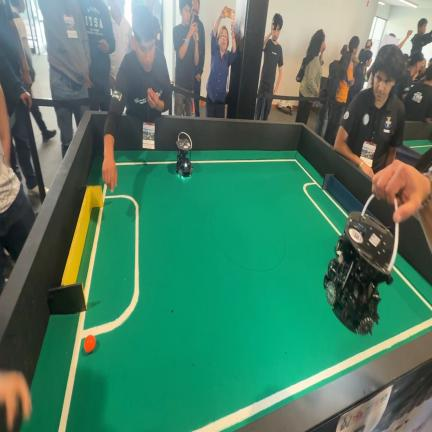cancha: (22, 150, 432, 432)
limites: (192, 318, 432, 432), (58, 186, 139, 432), (190, 158, 348, 236), (84, 185, 107, 300), (393, 266, 432, 311), (197, 158, 295, 164), (116, 160, 175, 166), (84, 335, 95, 353)
pelota: (58, 194, 139, 432), (116, 161, 177, 166)
porteria: (47, 186, 103, 314), (322, 174, 364, 212), (366, 207, 374, 216)
robot: (324, 194, 399, 335), (176, 132, 193, 177)
